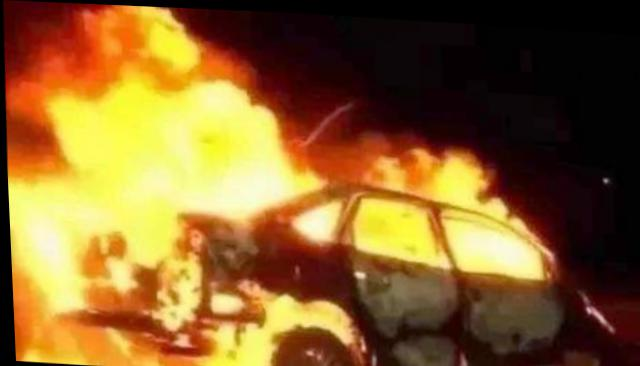fire: (8, 5, 571, 365)
